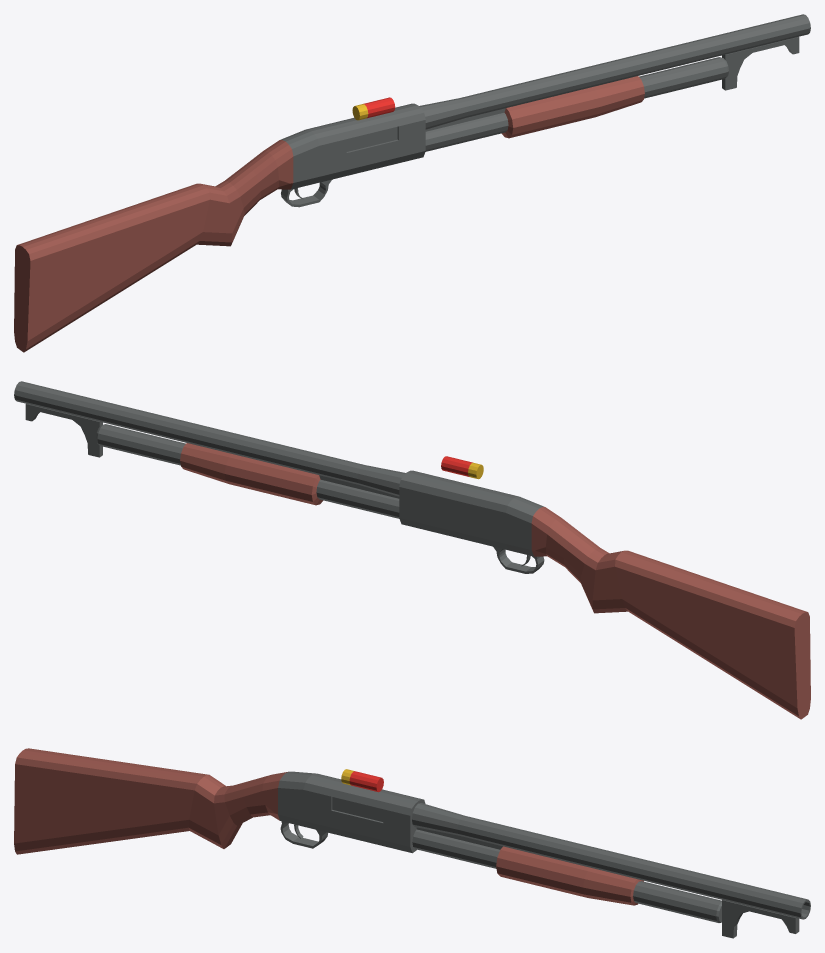
The model's file is Shotgun.glb.
3 renders of one model, top to bottom at view 1: azimuth 30°, elevation 25°; view 2: azimuth 150°, elevation 25°; view 3: azimuth 330°, elevation 25°, orthographic.
Visible parts, largest first — view 1: Stock, Barrel, Pump, Tube, Bayonet Holder, Cylinder; view 2: Stock, Barrel, Pump, Tube, Bayonet Holder, Cylinder; view 3: Stock, Barrel, Pump, Tube, Bayonet Holder, Cylinder, Trigger guard.
Part boxes in pixels (bbox=[...]): Stock: bbox=[14, 103, 425, 352]; Barrel: bbox=[419, 14, 810, 129]; Pump: bbox=[501, 76, 644, 138]; Tube: bbox=[425, 57, 728, 151]; Bayonet Holder: bbox=[722, 36, 799, 90]; Cylinder: bbox=[352, 97, 395, 120]; Stock: bbox=[399, 470, 810, 719]; Barrel: bbox=[14, 381, 405, 496]; Pump: bbox=[180, 443, 323, 505]; Tube: bbox=[96, 424, 399, 518]; Bayonet Holder: bbox=[25, 403, 102, 457]; Cylinder: bbox=[441, 456, 483, 479]; Stock: bbox=[14, 748, 425, 854]; Barrel: bbox=[412, 803, 810, 919]; Pump: bbox=[496, 846, 643, 905]; Tube: bbox=[412, 829, 721, 922]; Bayonet Holder: bbox=[722, 900, 799, 938]; Cylinder: bbox=[341, 769, 383, 792]; Trigger guard: bbox=[280, 821, 327, 848].
Size of the model in its own units: 4.88 by 0.9924 by 0.1931.
